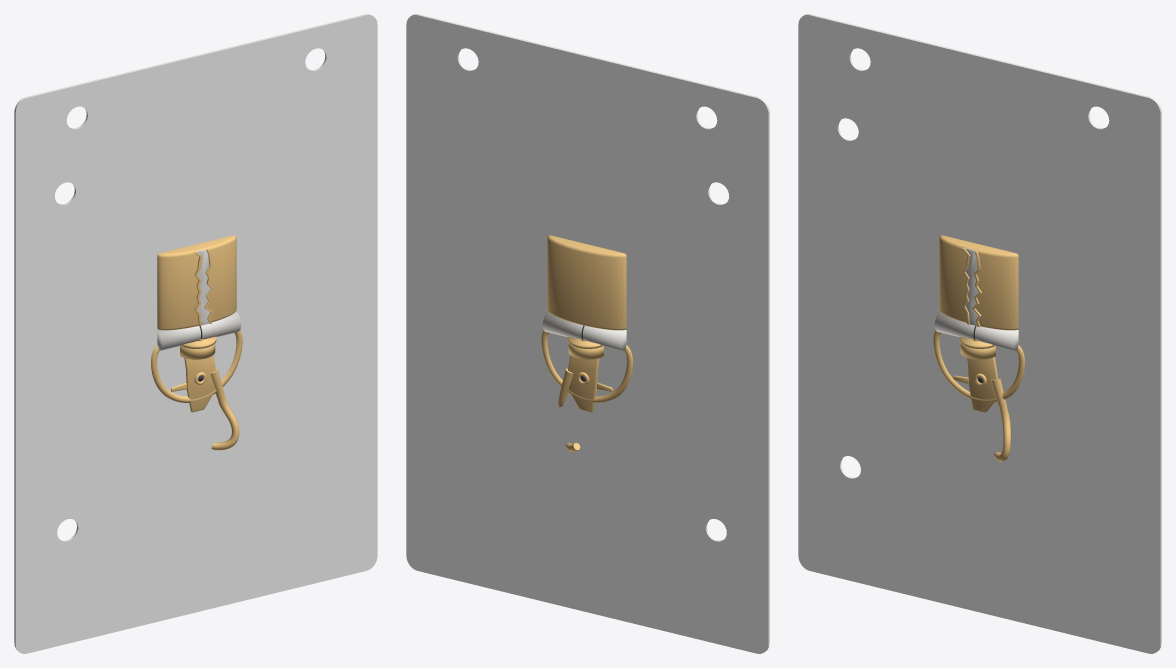
The model's file is lanyard-badge.gltf.
3 views of the same model, side by side, from view 1: azimuth 30°, elevation 25°; view 2: azimuth 150°, elevation 25°; view 3: azimuth 330°, elevation 25° (orthographic).
Parts seen in each view (by area): view 1: card, cap, clasp, dring; view 2: card, cap, clasp, dring; view 3: card, cap, clasp, dring.
Boxes of the visible parts, left/top/right/bottom form: card: left=14, top=14, right=377, bottom=653; cap: left=157, top=235, right=241, bottom=351; clasp: left=171, top=336, right=239, bottom=450; dring: left=151, top=330, right=242, bottom=402; card: left=406, top=14, right=769, bottom=653; cap: left=542, top=235, right=626, bottom=351; clasp: left=558, top=336, right=612, bottom=451; dring: left=541, top=330, right=632, bottom=402; card: left=798, top=14, right=1161, bottom=653; cap: left=934, top=235, right=1018, bottom=351; clasp: left=953, top=336, right=1011, bottom=461; dring: left=933, top=330, right=1024, bottom=402.
Bounding box in the file's own units: 0.094 × 0.138 × 0.0092.
